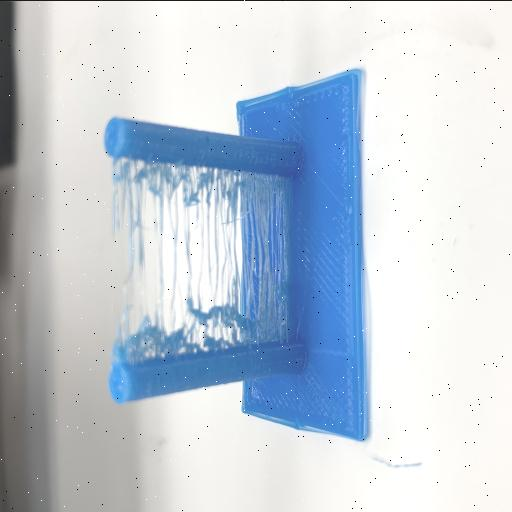stringing: (111, 160, 292, 363)
